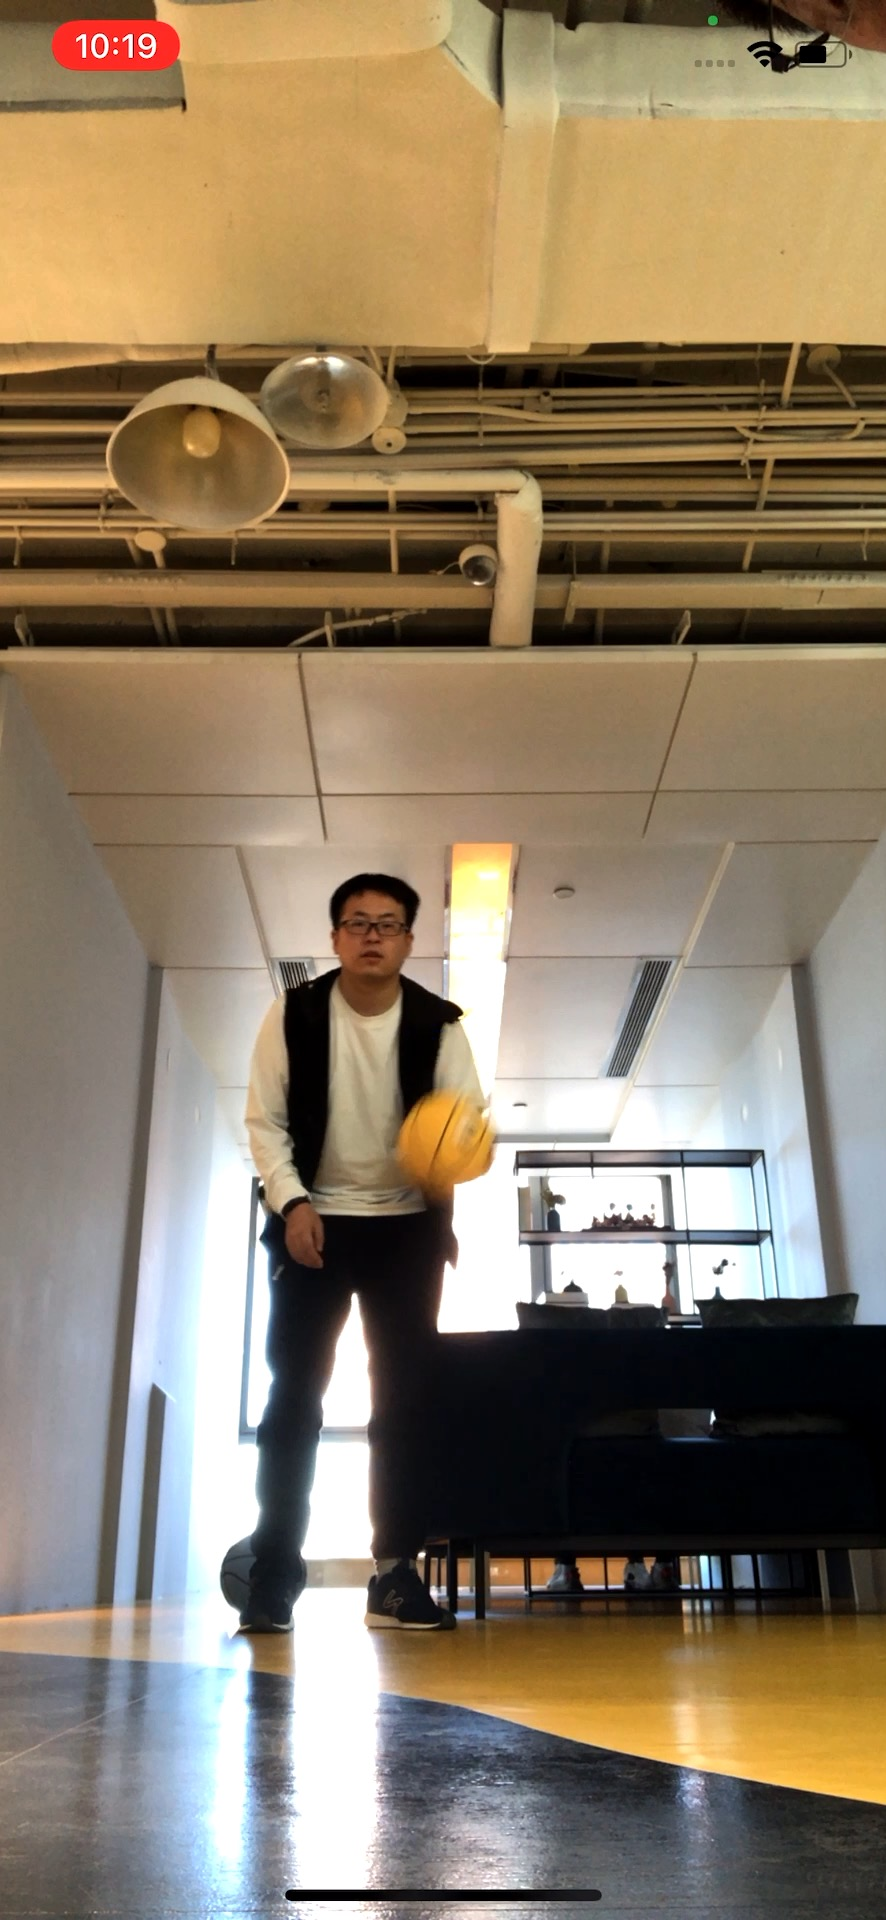ball: (396, 1090, 498, 1202), (221, 1536, 310, 1614)
